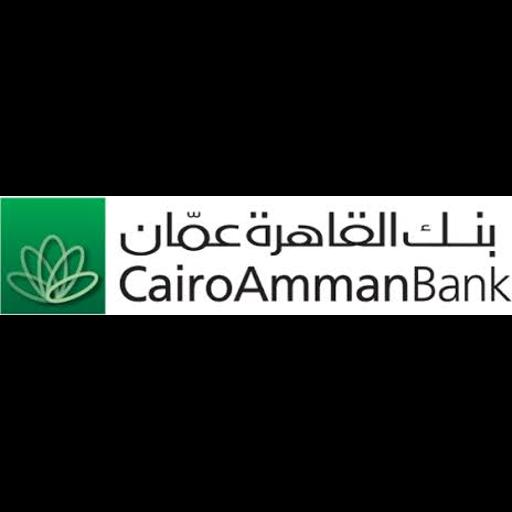Cairo Amman Bank: (0, 196, 512, 315)
